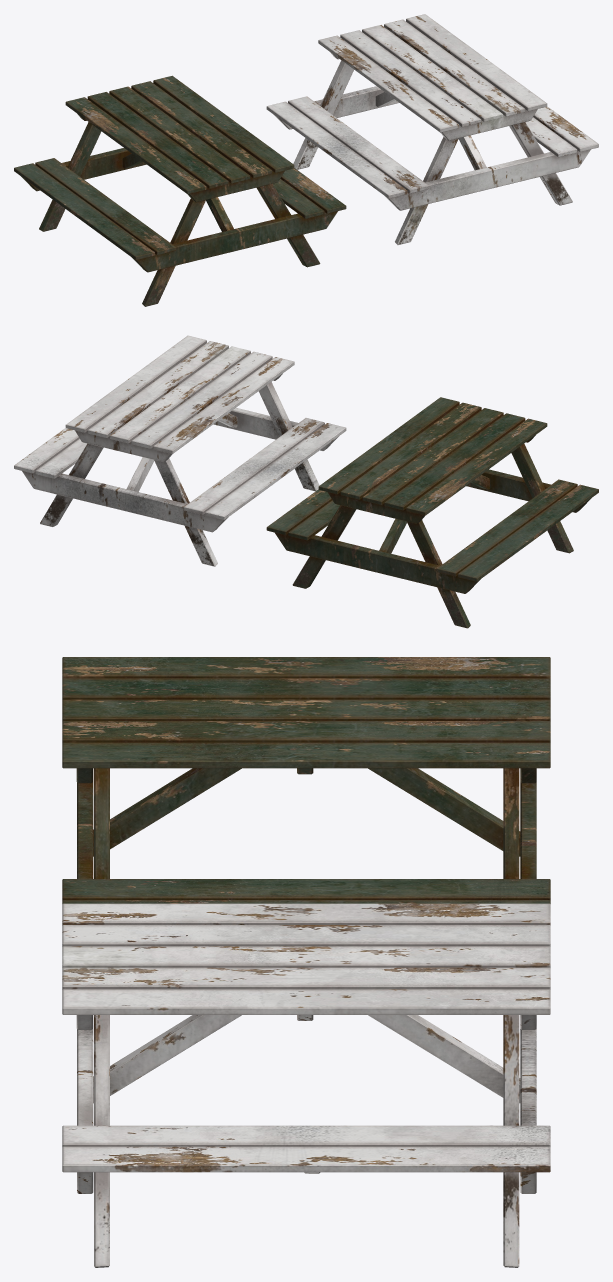
File: picnic_tables.glb
The picture shows the model from 3 angles, top to bottom: view 1: azimuth 30°, elevation 25°; view 2: azimuth 150°, elevation 25°; view 3: azimuth 270°, elevation 25°; orthographic projection. The views are drawn at different scales.
Parts seen in each view (by area): view 1: pCube16 (×2), pCube13 (×2), pCube35 (×2), pCube30 (×2), pCube31 (×2), pCube32 (×2), pCube34 (×2), pCube33 (×2), pCube29 (×2), pCube3 (×2), pCube14 (×2), pCube28 (×2) (+1 smaller); view 2: pCube16 (×2), pCube13 (×2), pCube35 (×2), pCube30 (×2), pCube31 (×2), pCube32 (×2), pCube34 (×2), pCube33 (×2), pCube29 (×2), pCube3 (×2), pCube14 (×2), pCube28 (×2) (+1 smaller); view 3: pCube31 (×2), pCube32 (×2), pCube35 (×2), pCube33 (×2), pCube34 (×2), pCube28 (×2), pCube3 (×2), pCube13 (×2), pCube16 (×2), pCube26 (×2), pCube37 (×2).
Boxes of the visible parts, x1,y1,x2,y2 form: pCube16 (×2): (21,86,590,272); pCube13 (×2): (39,60,572,306); pCube35 (×2): (65,35,459,194); pCube30 (×2): (14,101,407,260); pCube31 (×2): (153,14,547,172); pCube32 (×2): (131,19,524,178); pCube34 (×2): (87,30,481,188); pCube33 (×2): (109,25,502,183); pCube29 (×2): (35,96,428,255); pCube3 (×2): (280,106,598,213); pCube14 (×2): (77,24,537,202); pCube28 (×2): (273,117,577,218); pCube16 (×2): (22,407,591,593); pCube13 (×2): (40,382,573,628); pCube35 (×2): (153,357,547,515); pCube30 (×2): (205,423,598,581); pCube31 (×2): (65,335,459,494); pCube32 (×2): (88,341,481,499); pCube34 (×2): (131,351,525,510); pCube33 (×2): (110,346,503,504); pCube29 (×2): (184,418,577,576); pCube3 (×2): (14,428,332,535); pCube14 (×2): (75,373,535,523); pCube28 (×2): (35,438,339,540); pCube31 (×2): (62,742,550,1014); pCube32 (×2): (62,721,550,989); pCube35 (×2): (62,657,550,925); pCube33 (×2): (62,699,550,967); pCube34 (×2): (62,678,550,946); pCube28 (×2): (62,879,550,1146); pCube3 (×2): (62,900,550,1172); pCube13 (×2): (94,768,519,1267); pCube16 (×2): (77,768,536,1193); pCube26 (×2): (368,768,520,1103); pCube37 (×2): (93,768,241,1103).
Bounding box in the file's own units: 132 × 30.84 × 60.
2 materials, 2 textured.
